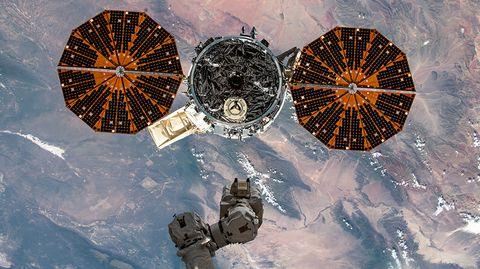antenna: (55, 9, 186, 136), (288, 26, 417, 152), (249, 24, 258, 40), (241, 25, 246, 37)
body: (187, 35, 288, 142)
